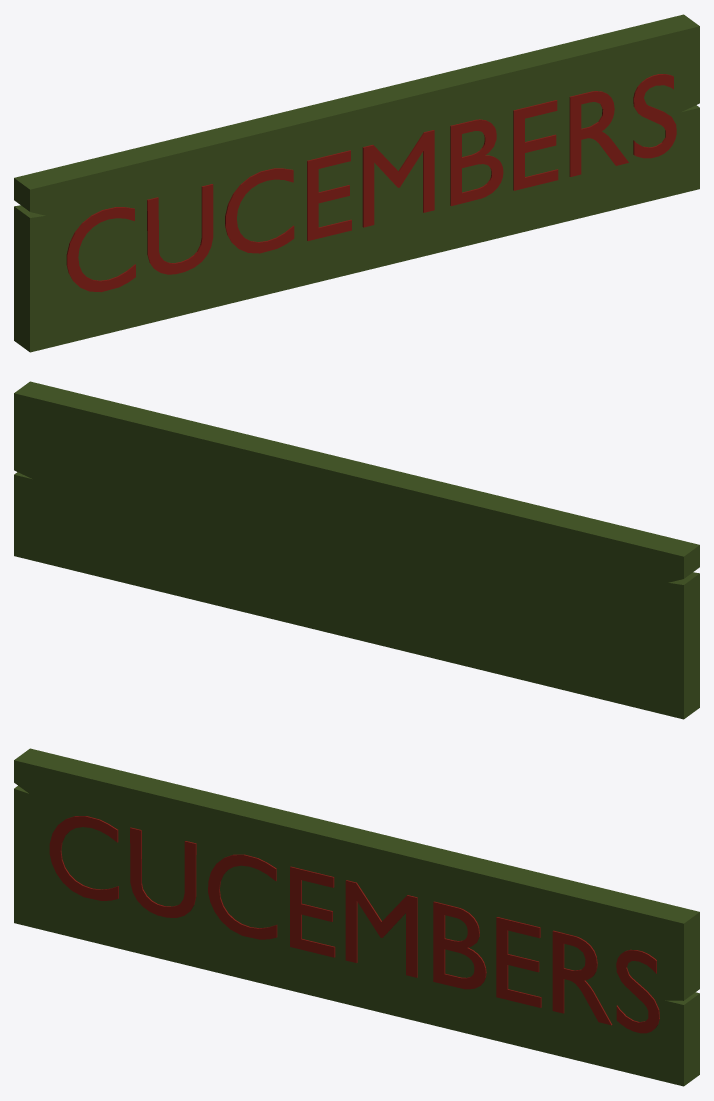
The model's file is Banner_4.fbx.
3 renders of one model, top to bottom at view 1: azimuth 30°, elevation 25°; view 2: azimuth 150°, elevation 25°; view 3: azimuth 330°, elevation 25°, orthographic.
Parts seen in each view (by area): view 1: Banner_4; view 2: Banner_4; view 3: Banner_4.
Boxes of the visible parts, bbox=[...] form: Banner_4: bbox=[14, 14, 699, 352]; Banner_4: bbox=[14, 381, 699, 719]; Banner_4: bbox=[14, 748, 699, 1086].
Size of the model in its own units: 137 by 31.86 by 6.
